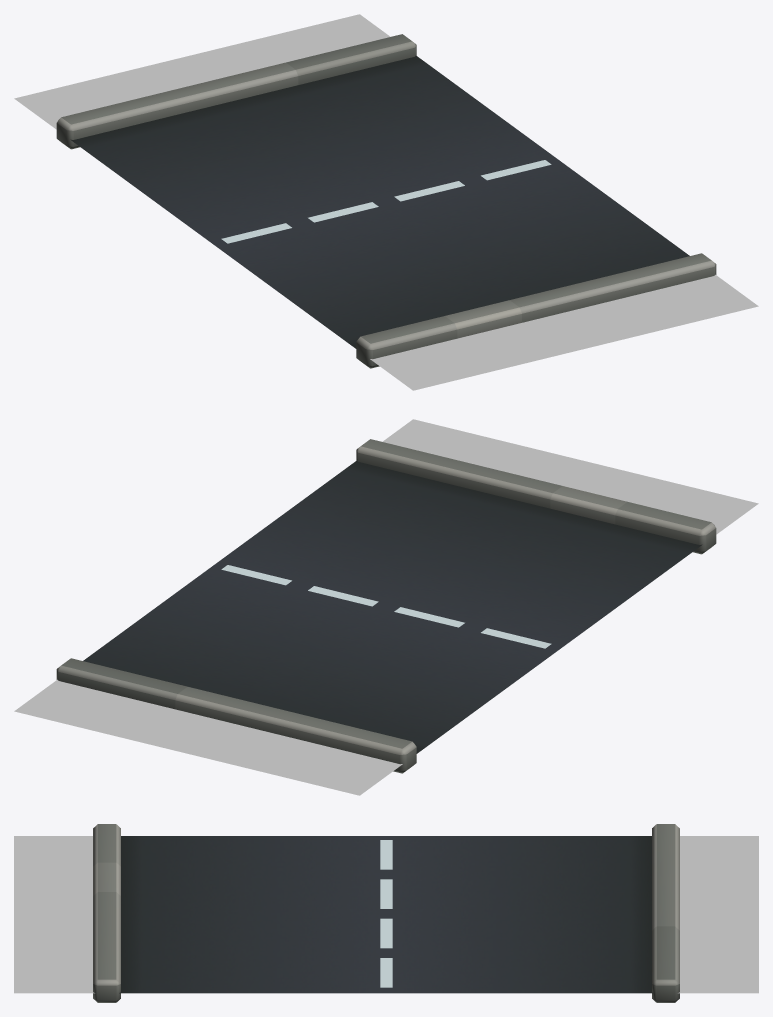
The model's file is road_section_x4.fbx.
3 views of the same model, one above another, from view 1: azimuth 30°, elevation 25°; view 2: azimuth 150°, elevation 25°; view 3: azimuth 270°, elevation 25° (orthographic). The views are drawn at different scales.
Visible parts, largest first — view 1: road_section_x4, road_section_x4_sidewalk; view 2: road_section_x4, road_section_x4_sidewalk; view 3: road_section_x4, road_section_x4_sidewalk.
Part boxes in pixels (bbox=[...]): road_section_x4: bbox=[56, 34, 716, 368]; road_section_x4_sidewalk: bbox=[14, 14, 758, 390]; road_section_x4: bbox=[56, 439, 716, 773]; road_section_x4_sidewalk: bbox=[14, 419, 758, 795]; road_section_x4: bbox=[93, 824, 679, 1002]; road_section_x4_sidewalk: bbox=[14, 836, 758, 993].
Size of the model in its own units: 810 by 55 by 1600.
